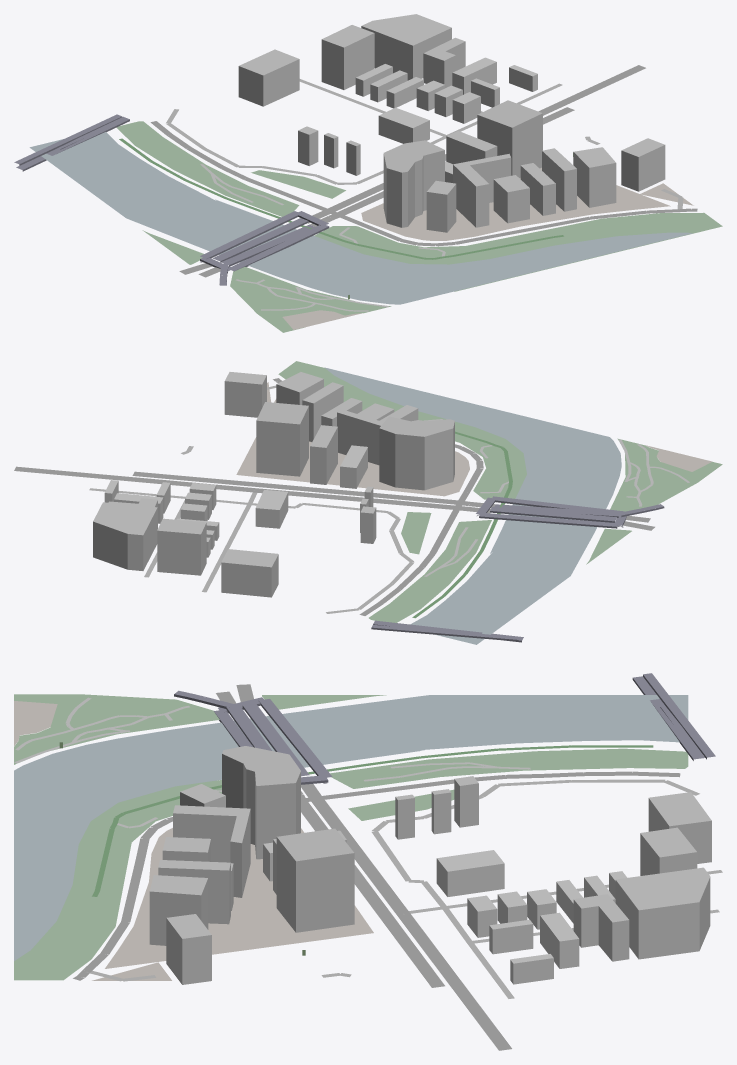
The picture shows the model from 3 angles, top to bottom: view 1: azimuth 30°, elevation 25°; view 2: azimuth 150°, elevation 25°; view 3: azimuth 270°, elevation 25°; orthographic projection. The views are drawn at different scales.
Size of the model in its own units: 655 by 61.96 by 526.
